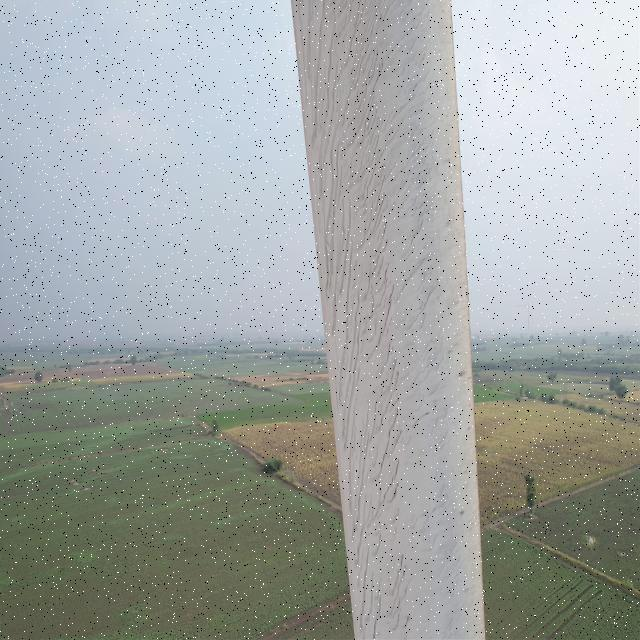Dirt: (293, 2, 486, 640)
